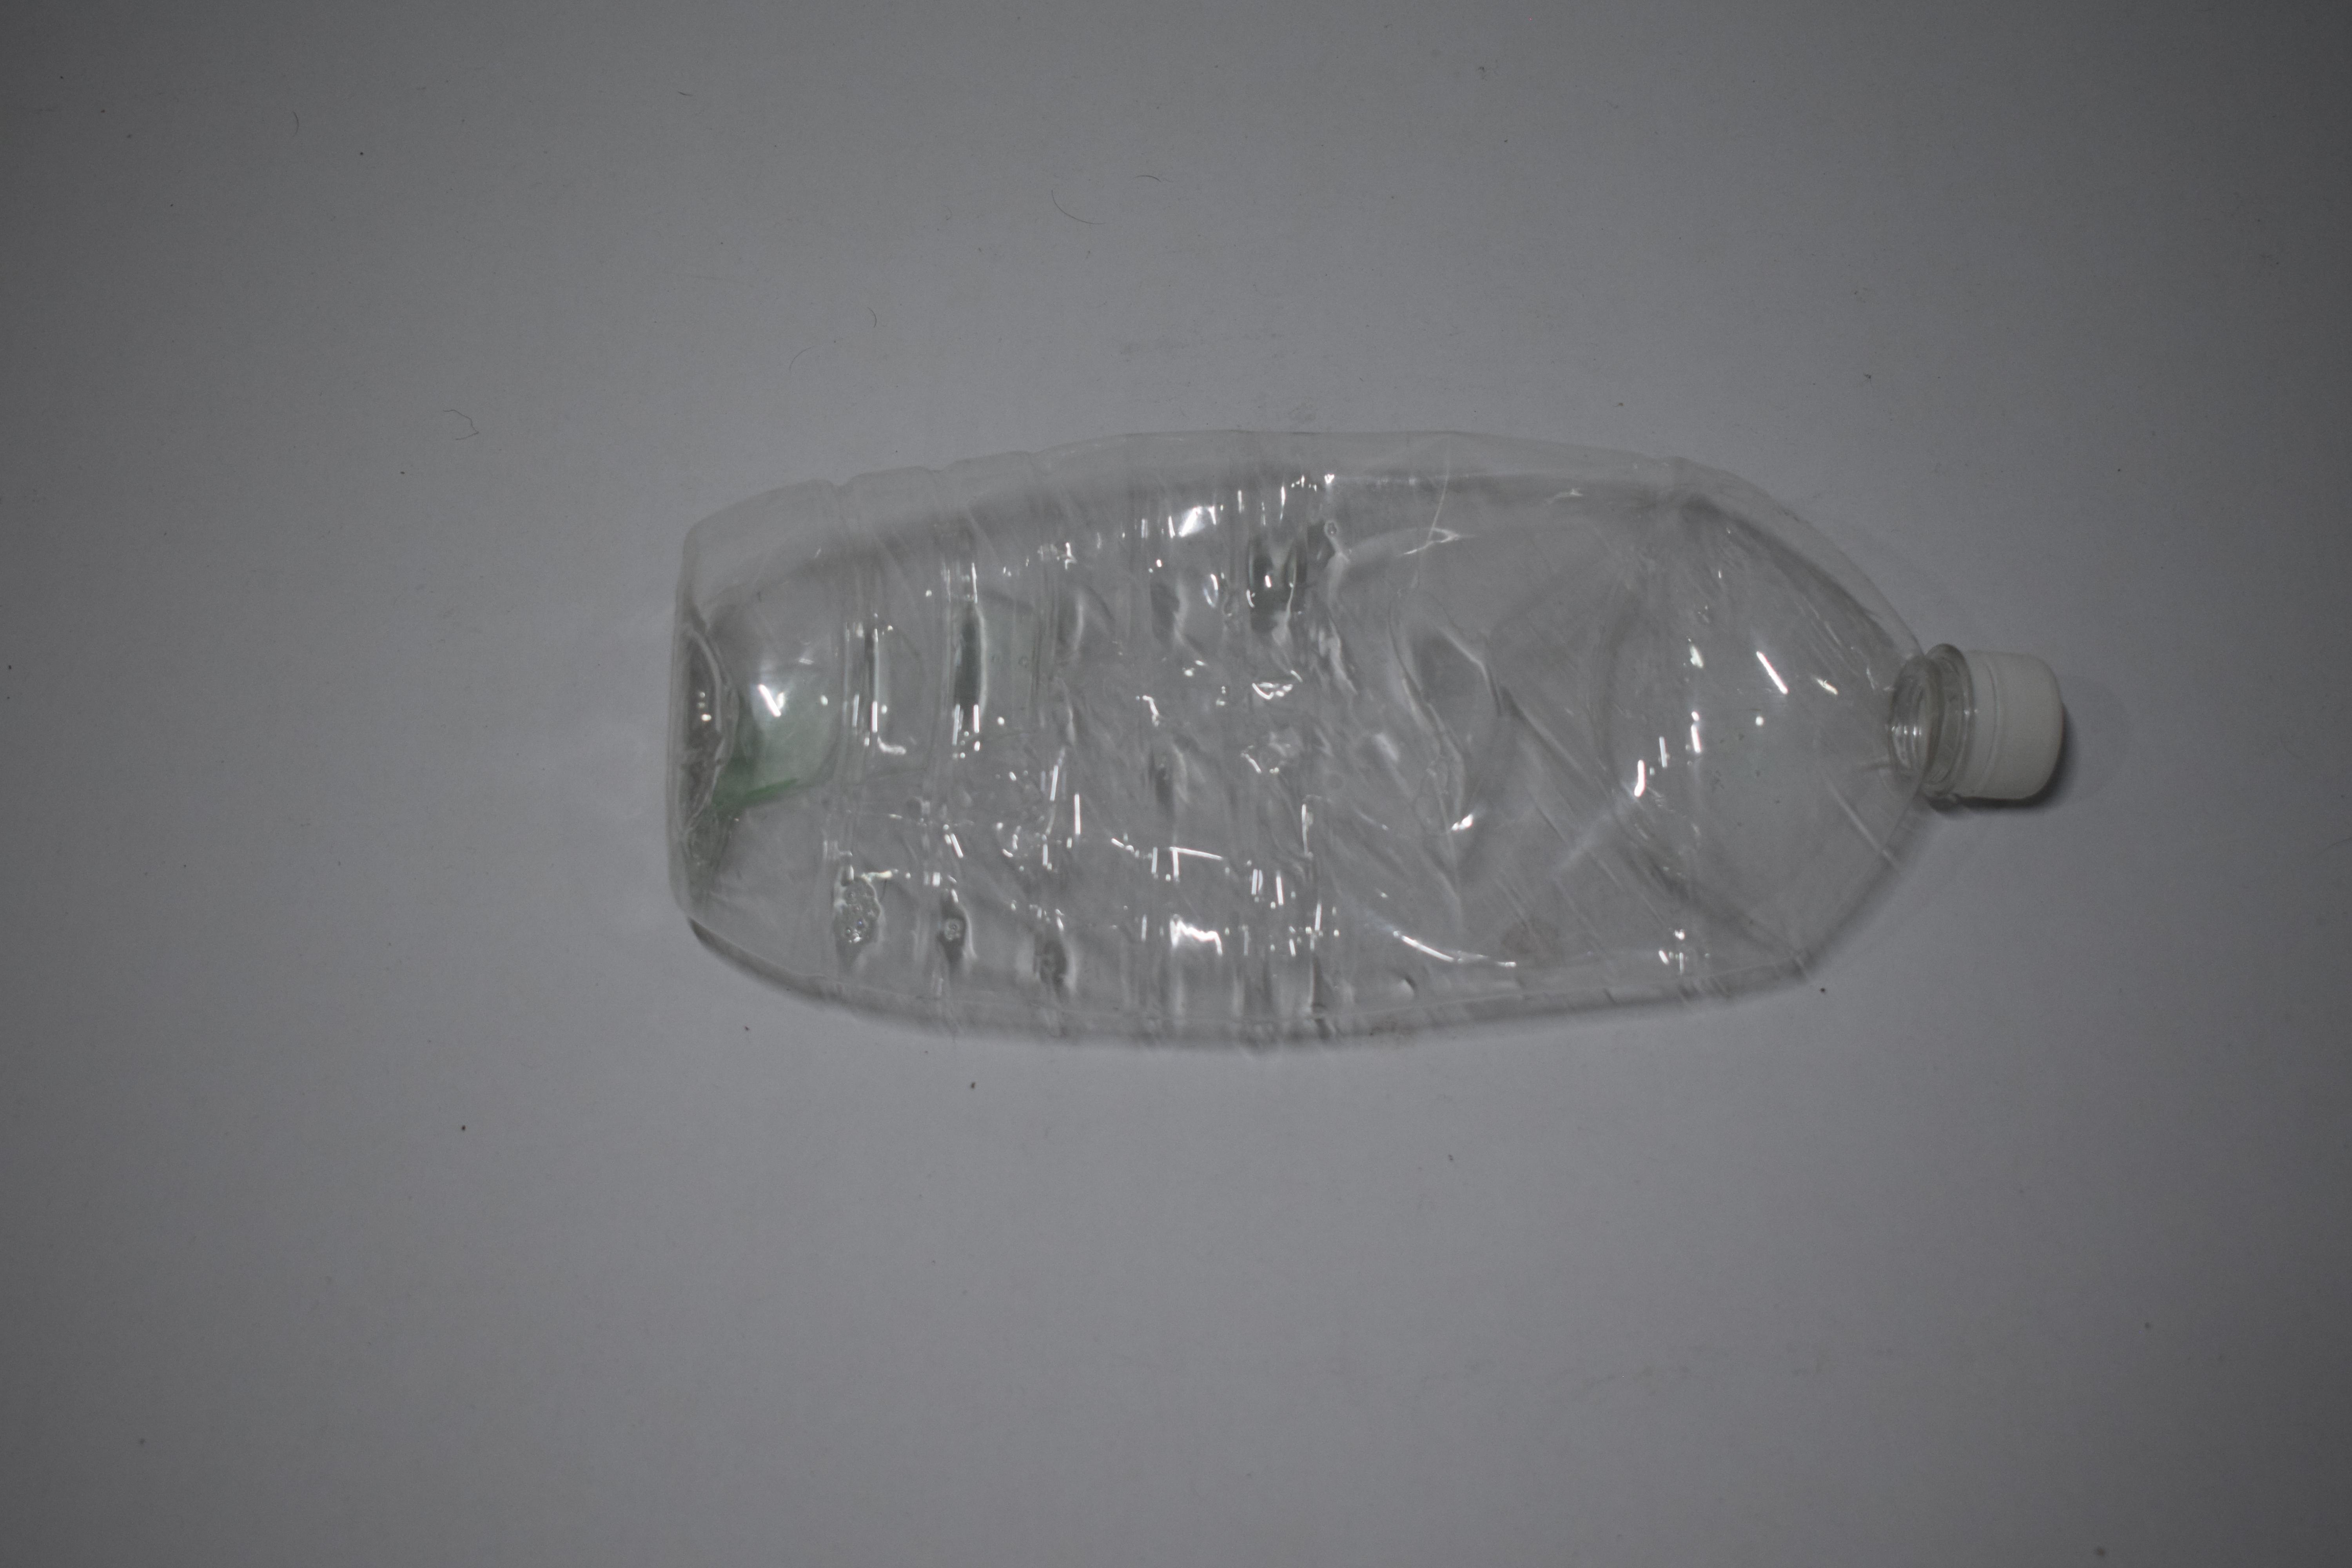bottle: (0, 439, 898, 1053)
